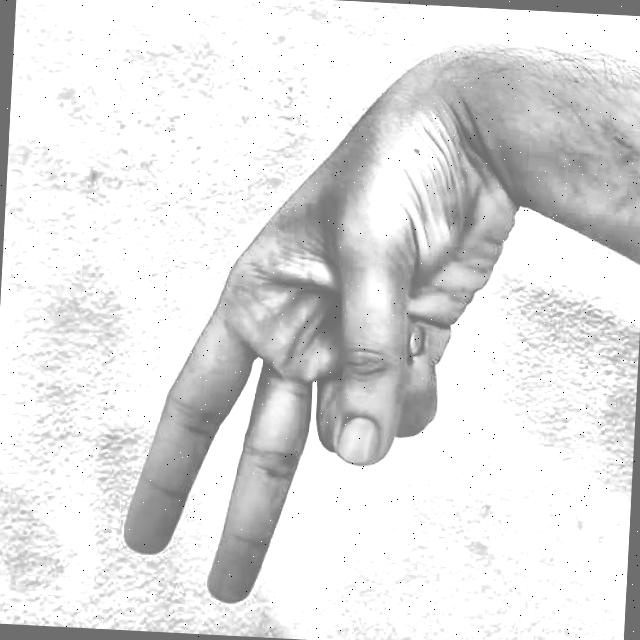Pa: (104, 31, 536, 630)
